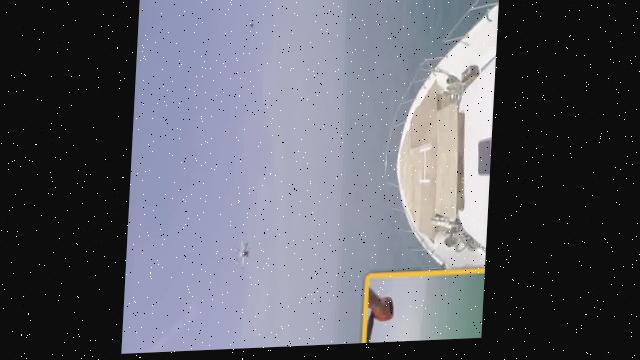drone: (227, 230, 264, 278), (242, 11, 259, 41)
